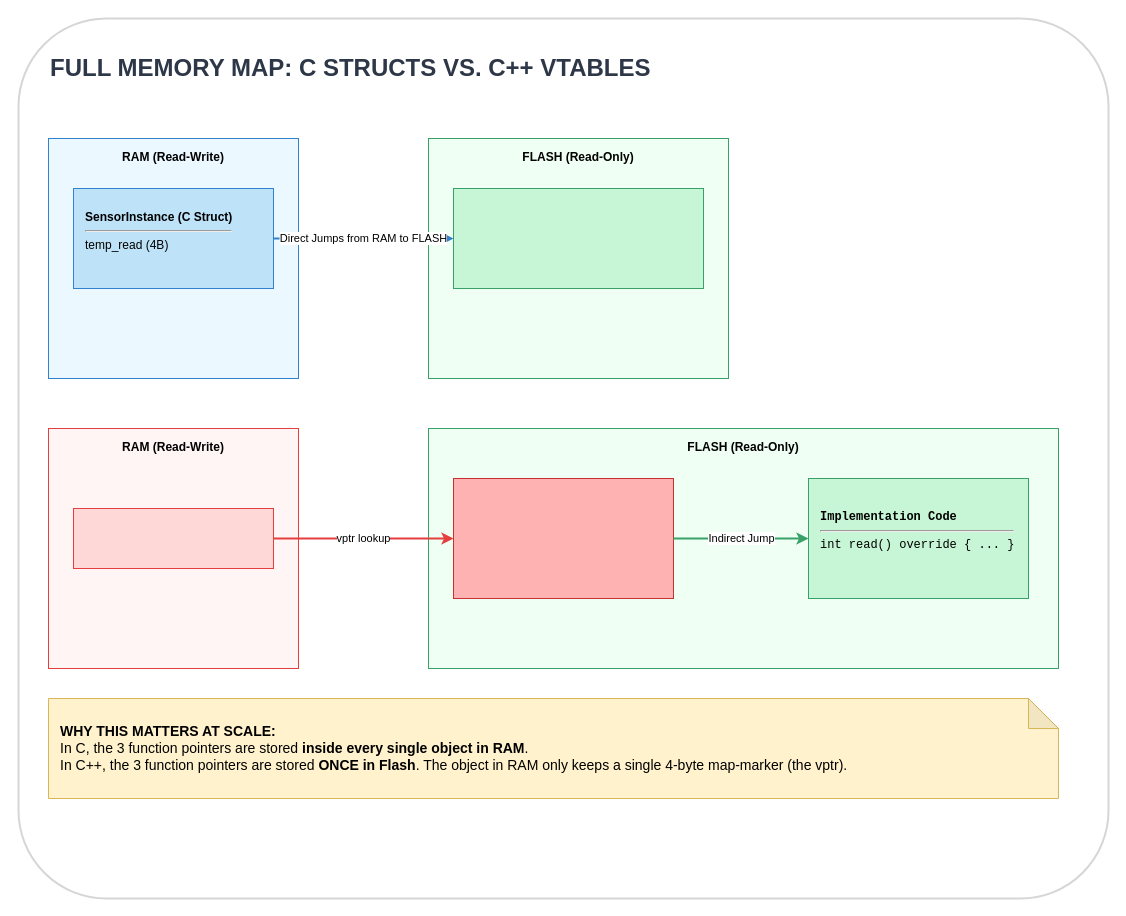
Some shapes in this 1126 by 916 pixel diagram are drawn without their labels. Here are the shapes that lost their labels. From the top down, the centre of each, then its label:
At [578,238]: "Implementation Code int temp_read() { ... }".
At [173,538]: "TempSensor (C++ Object) vptr (4B)".
At [563,538]: "VTable for TempSensor [0] &TempSensor::read".
